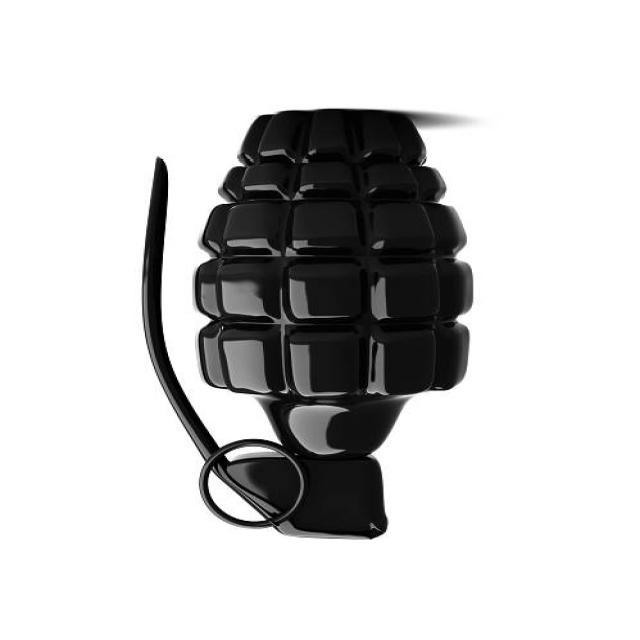grenade: (133, 103, 488, 550)
